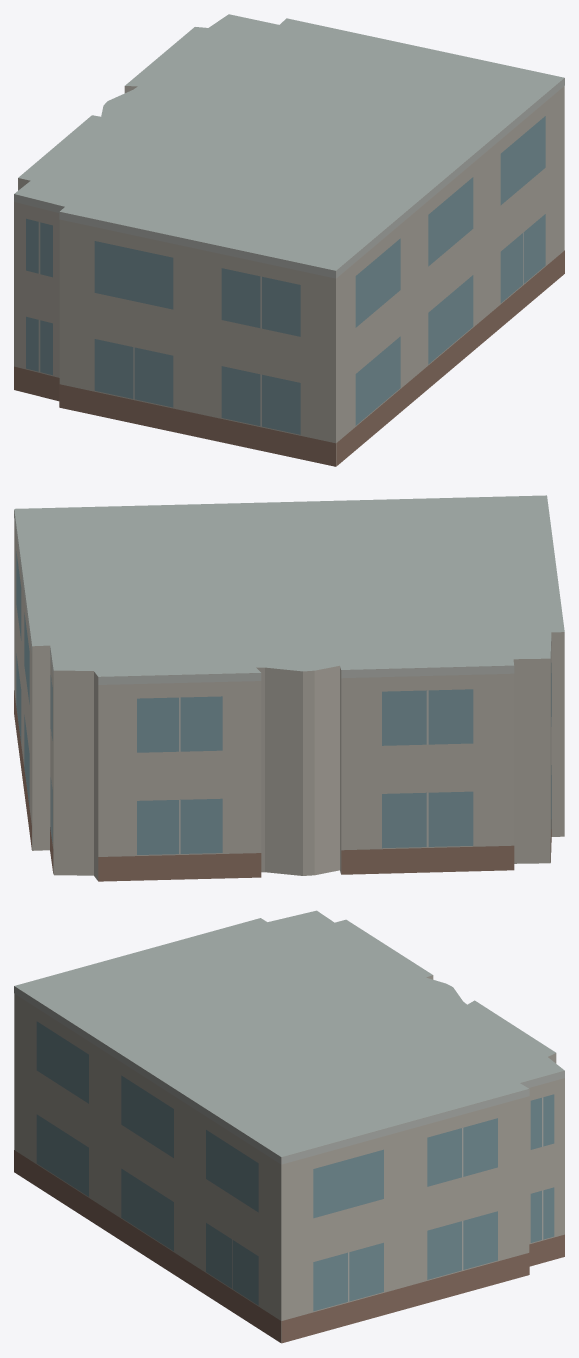
File: survey-upis-32923427.glb
3 renders of one model, top to bottom at view 1: azimuth 30°, elevation 25°; view 2: azimuth 150°, elevation 25°; view 3: azimuth 270°, elevation 25°, orthographic. The views are drawn at different scales.
Parts seen in each view (by area): view 1: survey-upis-32923427.tmp; view 2: survey-upis-32923427.tmp; view 3: survey-upis-32923427.tmp.
Boxes of the visible parts, bbox=[...] form: survey-upis-32923427.tmp: bbox=[14, 14, 564, 466]; survey-upis-32923427.tmp: bbox=[14, 495, 564, 881]; survey-upis-32923427.tmp: bbox=[14, 910, 564, 1343].
Size of the model in its own units: 17.35 by 6.1 by 16.36.
